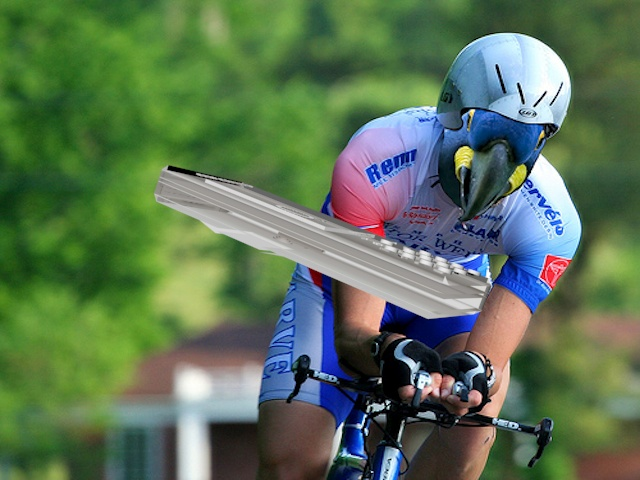mobile_phone: (145, 161, 496, 320)
